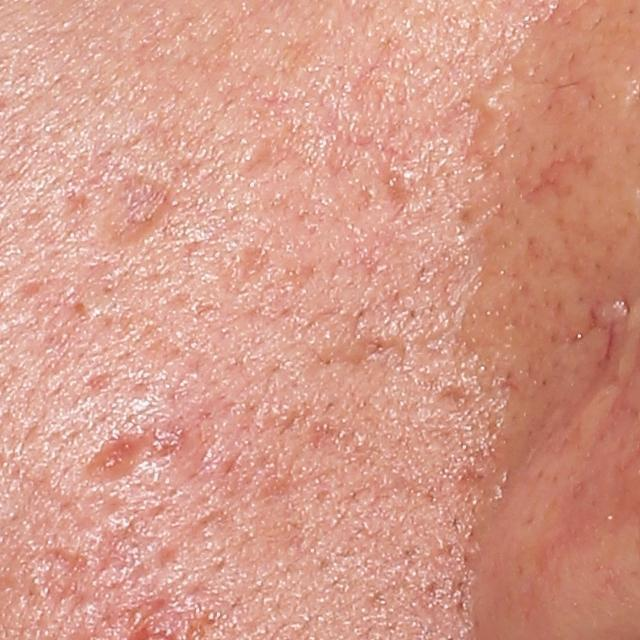atrophic_scar: (575, 291, 633, 416), (77, 428, 166, 487), (103, 178, 178, 247), (320, 331, 401, 372), (30, 547, 85, 606), (239, 136, 308, 181), (532, 148, 600, 191), (241, 246, 275, 284)
comedo: (476, 87, 503, 118)
